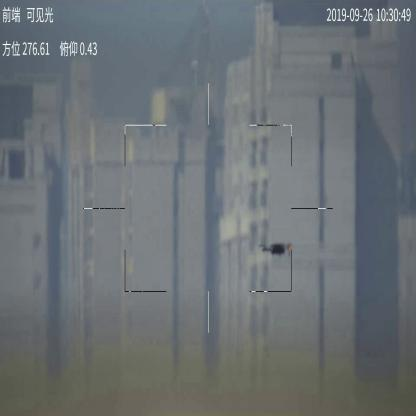uav: (256, 240, 296, 258)
